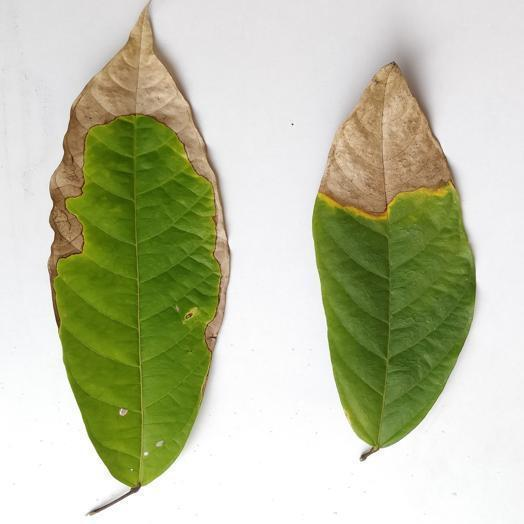Potassium: (49, 9, 228, 513), (313, 64, 474, 459)
